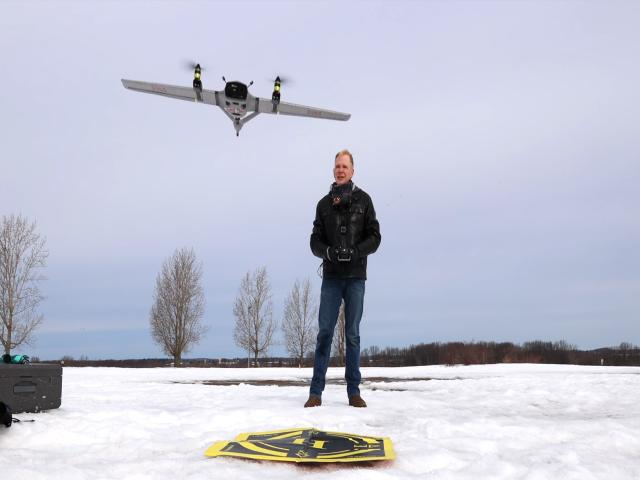plane: (119, 62, 351, 134)
